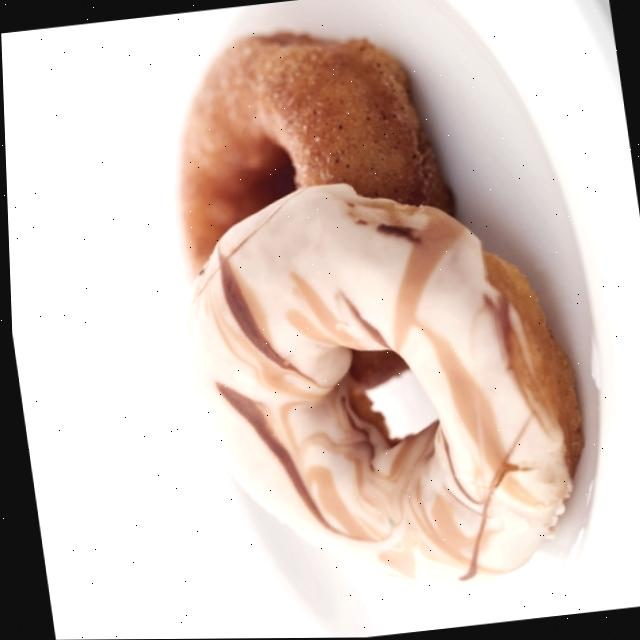炸货点心: (131, 0, 613, 619)
